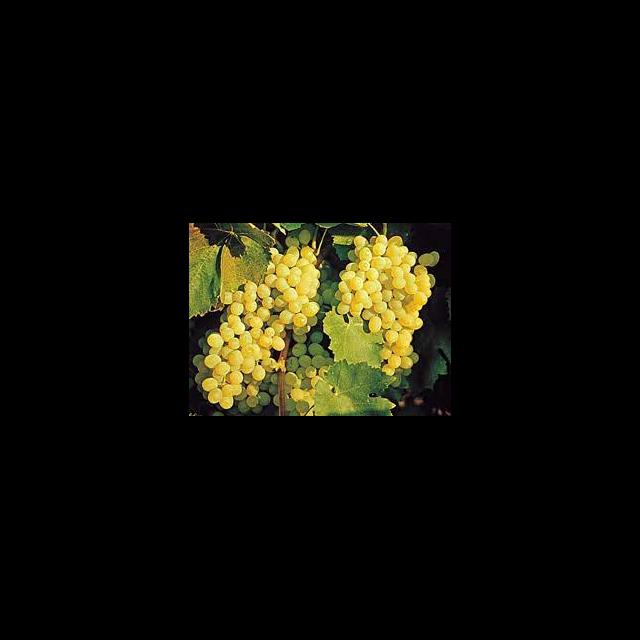grape: (334, 234, 439, 376)
